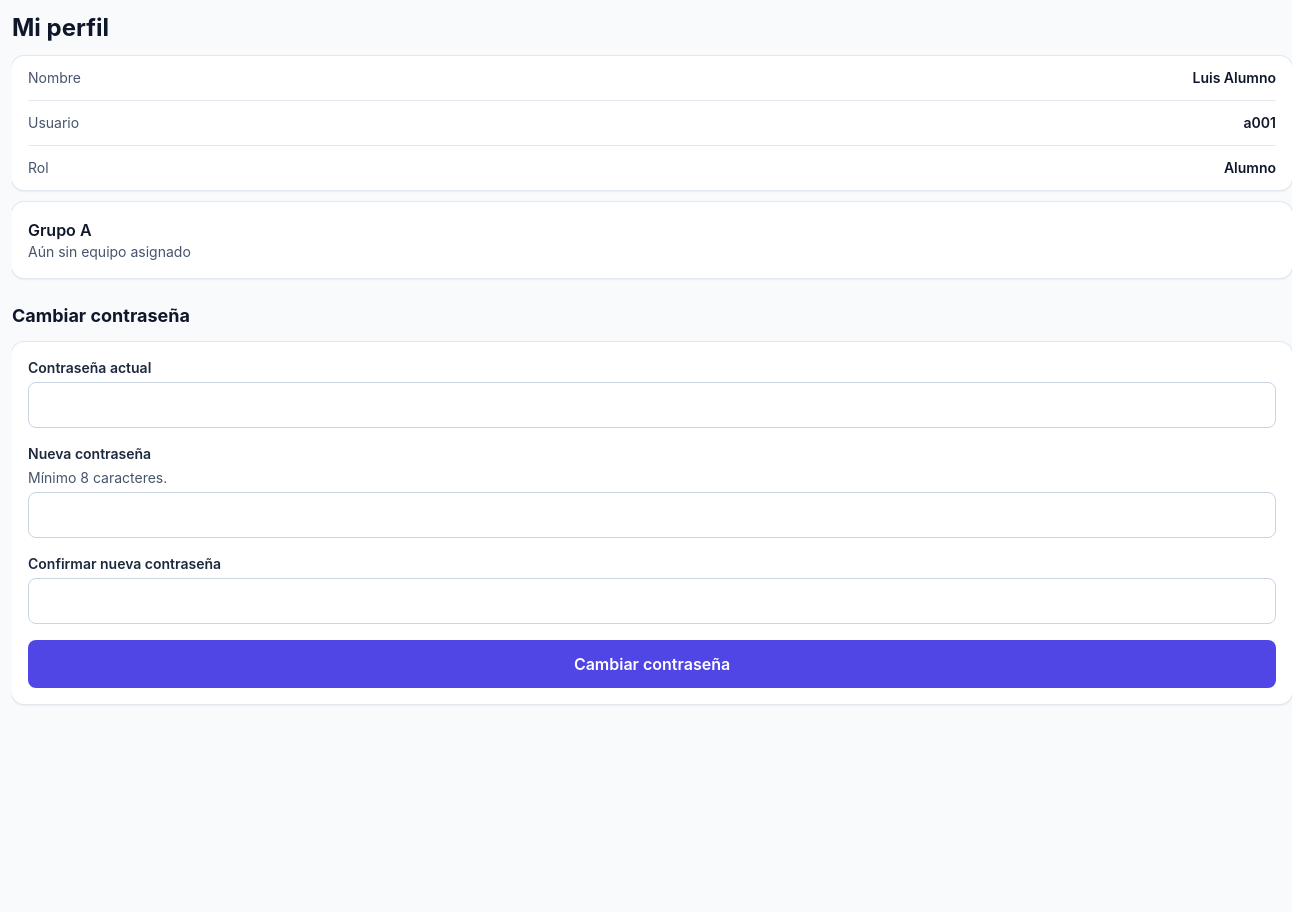
ProfilePage › changes the password and confirms it
Type "secreto123" into the password field labelled "Contraseña actual". click: [652, 405]
box: [28, 382, 1276, 428]
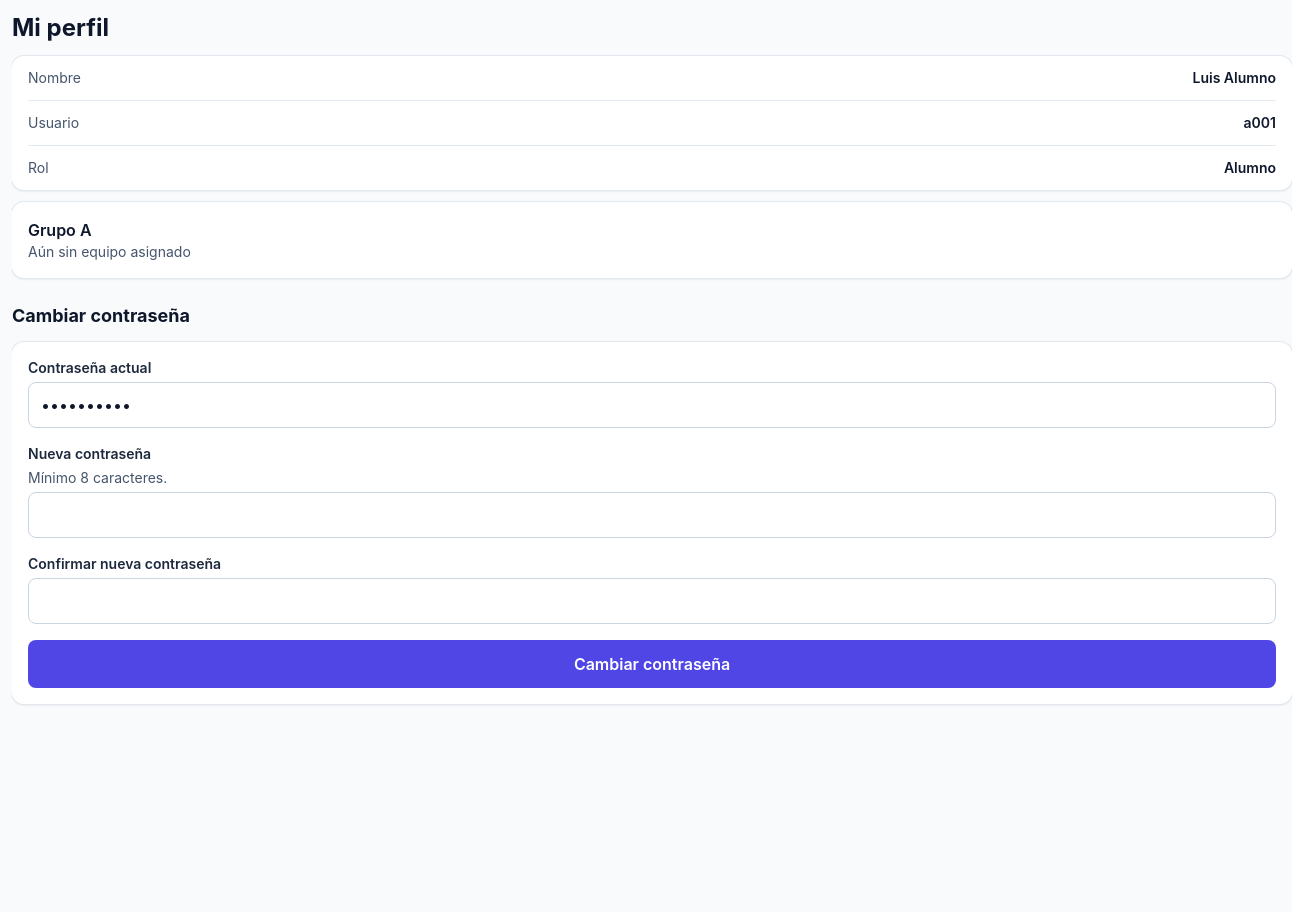
Type "nuevo-secreto" into the password field labelled "Nueva contraseña". click: [652, 515]
box: [28, 492, 1276, 538]
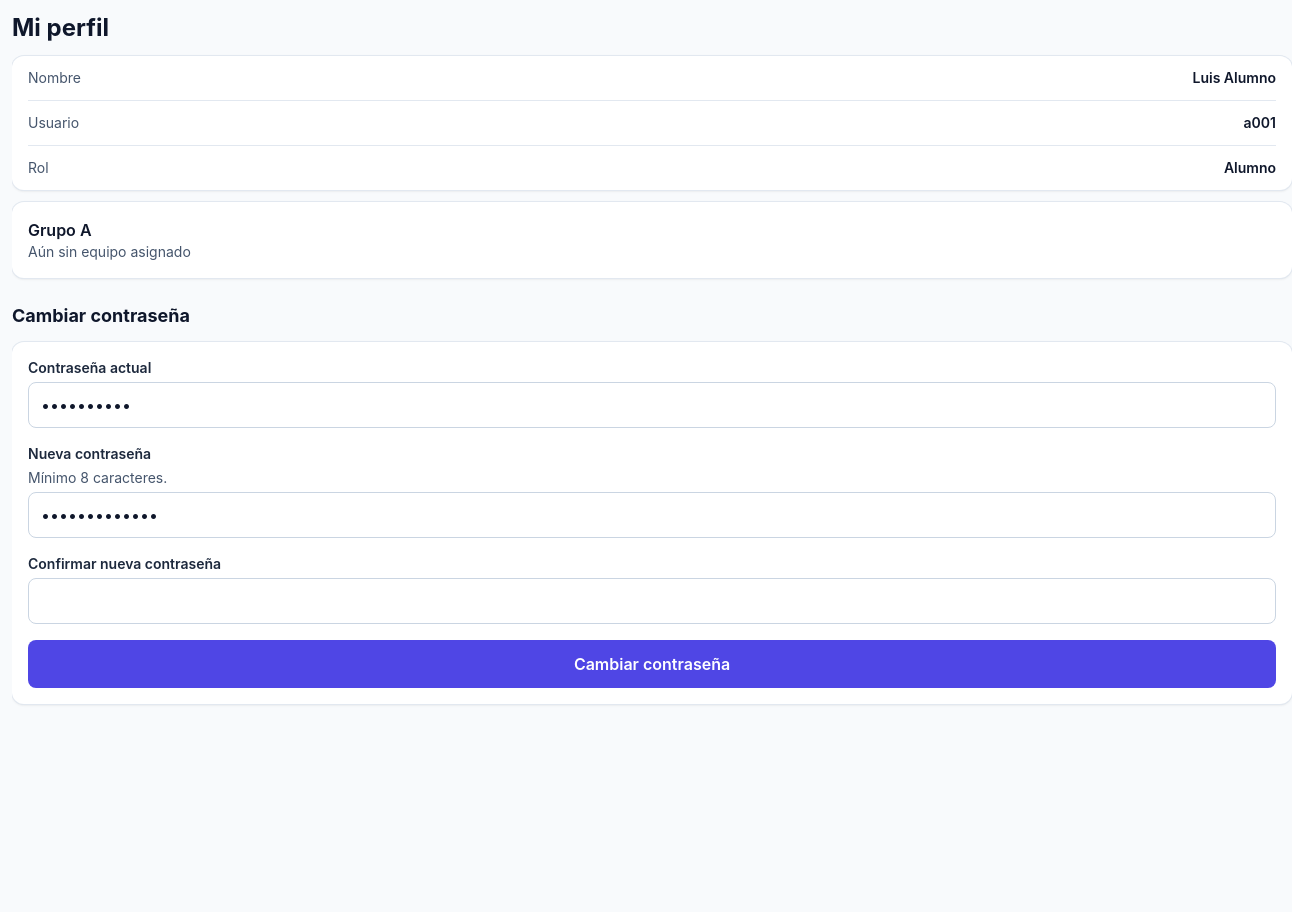
Type "nuevo-secreto" into the password field labelled "Confirmar nueva contraseña". click: [652, 601]
box: [28, 578, 1276, 624]
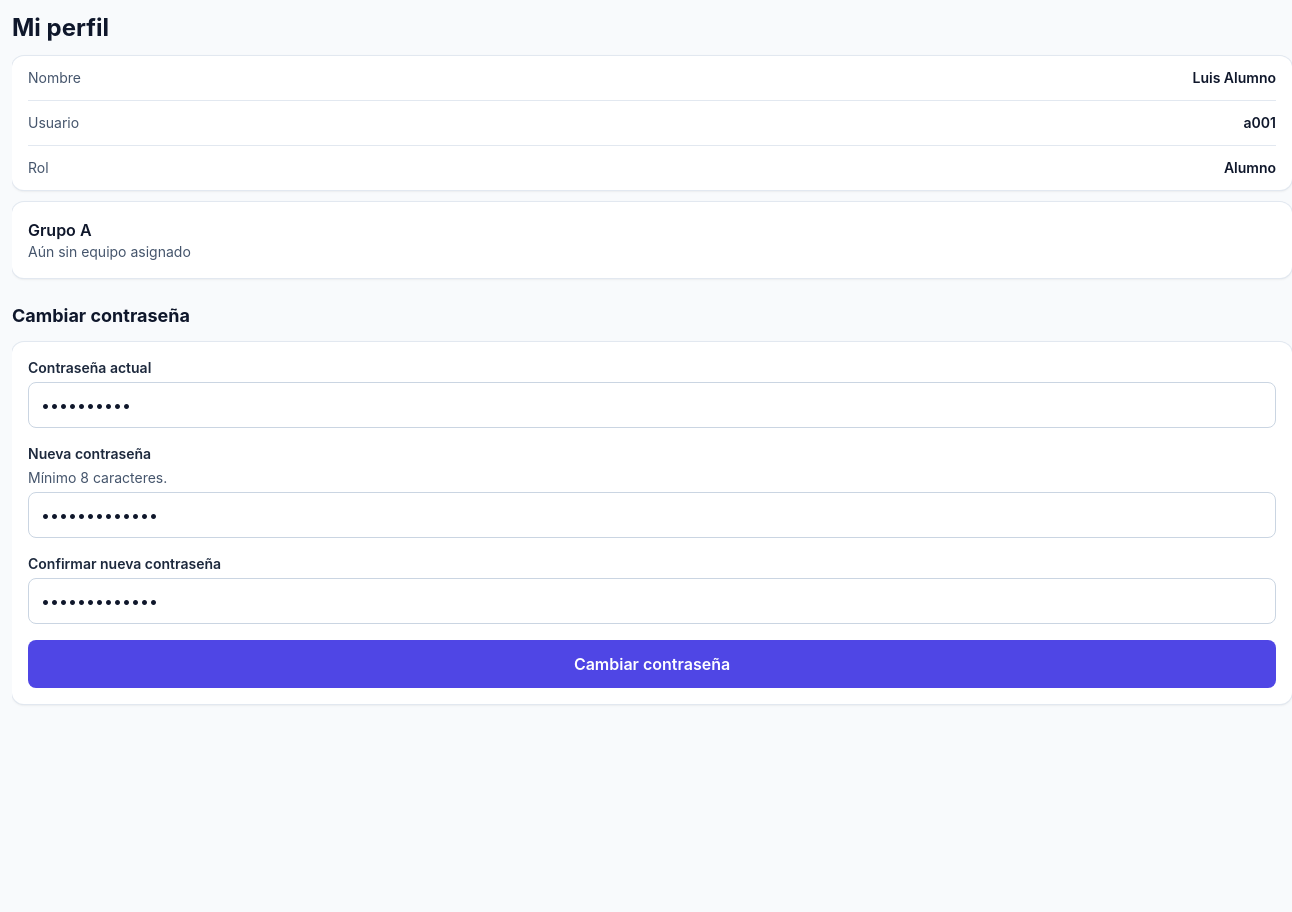
Click the button "Cambiar contraseña". click: [652, 664]
box: [28, 640, 1276, 688]
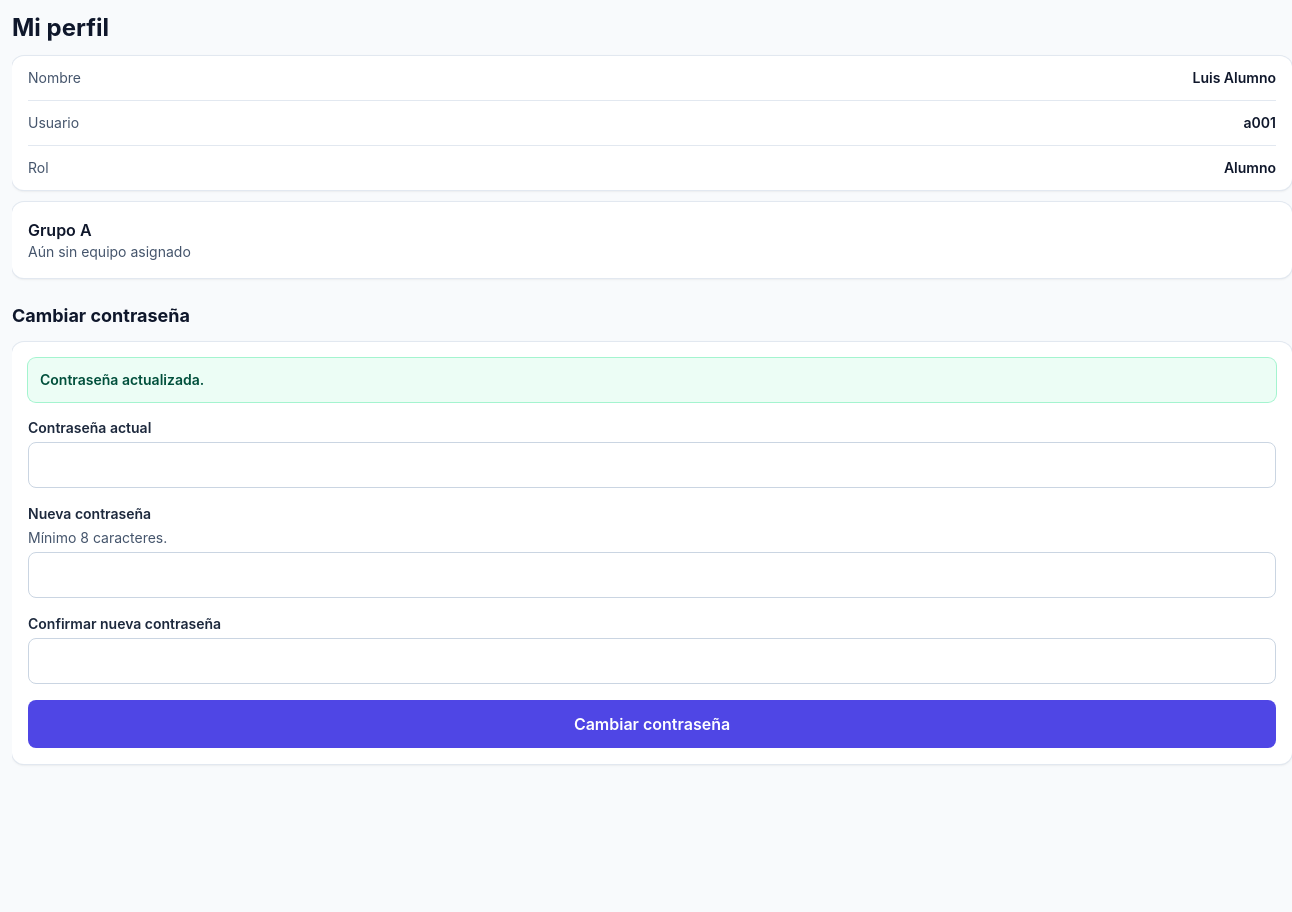
Check: the text "Contraseña actualizada." is shown, box [28, 358, 1276, 402]
Check: the password field labelled "Contraseña actual" is empty, box [28, 442, 1276, 488]
